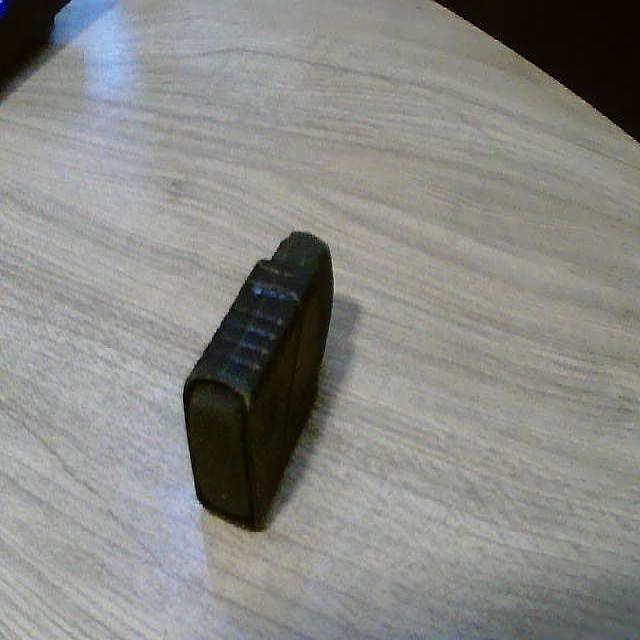borracha: (176, 220, 355, 561)
